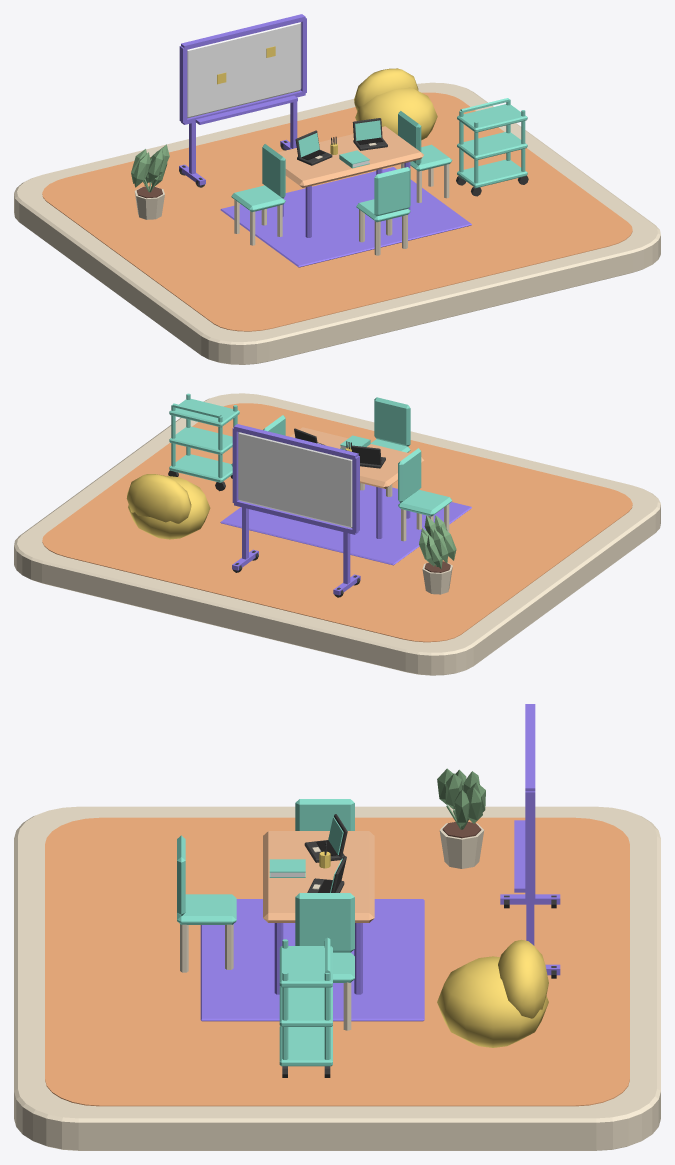
The picture shows the model from 3 angles, top to bottom: view 1: azimuth 30°, elevation 25°; view 2: azimuth 150°, elevation 25°; view 3: azimuth 270°, elevation 25°; orthographic projection. The views are drawn at different scales.
Visible parts, largest first — view 1: COM-02 Floor Surface, COM-01 Rounded Base Direct, Rug, Writing surface, Rounded table top, Beanbag shell, Pot, Backrest.002, Back bolster, Tray.002, Tray.001, Tray (+8 smaller); view 2: COM-02 Floor Surface, COM-01 Rounded Base Direct, Writing surface, Rug, Back bolster, Pot, Beanbag shell, Rounded table top, Backrest.002, Tray, Tray.001, Tray.002 (+7 smaller); view 3: COM-02 Floor Surface, COM-01 Rounded Base Direct, Rug, Rounded table top, Beanbag shell, Pot, Backrest.001, Back bolster, Tray.002, Tray, Tray.001, Backrest (+6 smaller).
Boxes of the visible parts, box(x1,y1,x2,y2) form: COM-02 Floor Surface: box(42, 92, 632, 331); COM-01 Rounded Base Direct: box(14, 82, 660, 364); Rug: box(220, 167, 471, 267); Writing surface: box(187, 22, 301, 118); Rounded table top: box(277, 126, 423, 187); Beanbag shell: box(355, 87, 437, 140); Pot: box(131, 144, 169, 219); Backrest.002: box(374, 167, 410, 216); Back bolster: box(354, 68, 418, 111); Tray.002: box(457, 104, 527, 132); Tray.001: box(457, 132, 527, 160); Tray: box(457, 159, 527, 188); COM-02 Floor Surface: box(42, 403, 632, 642); COM-01 Rounded Base Direct: box(14, 393, 660, 675); Writing surface: box(238, 432, 352, 527); Rug: box(220, 484, 471, 565); Back bolster: box(126, 474, 191, 523); Pot: box(419, 515, 456, 594); Beanbag shell: box(128, 476, 210, 539); Rounded table top: box(290, 427, 423, 488); Backrest.002: box(374, 397, 410, 446); Tray: box(169, 454, 232, 482); Tray.001: box(169, 426, 232, 454); Tray.002: box(169, 399, 239, 427); COM-02 Floor Surface: box(45, 817, 629, 1106); COM-01 Rounded Base Direct: box(14, 806, 660, 1150); Rug: box(200, 899, 424, 1021); Rounded table top: box(263, 831, 374, 922); Beanbag shell: box(437, 956, 548, 1047); Pot: box(437, 768, 485, 868); Backrest.001: box(295, 893, 354, 952); Back bolster: box(498, 939, 548, 1018); Tray.002: box(279, 946, 332, 987); Tray: box(279, 1026, 332, 1066); Tray.001: box(279, 986, 332, 1026); Backrest: box(295, 799, 354, 830).
Size of the model in its own units: 6 by 2.04 by 5.2.
1 material, 1 textured.
